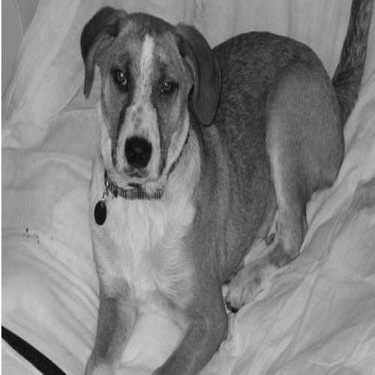dog: (70, 2, 348, 373)
